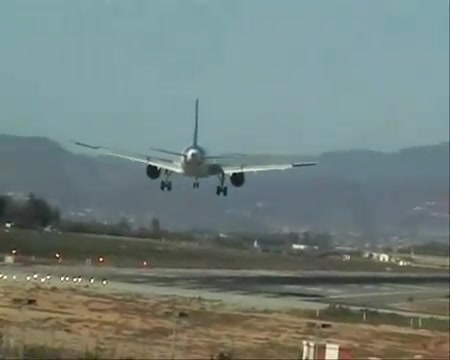aeroplane: (78, 98, 321, 198)
